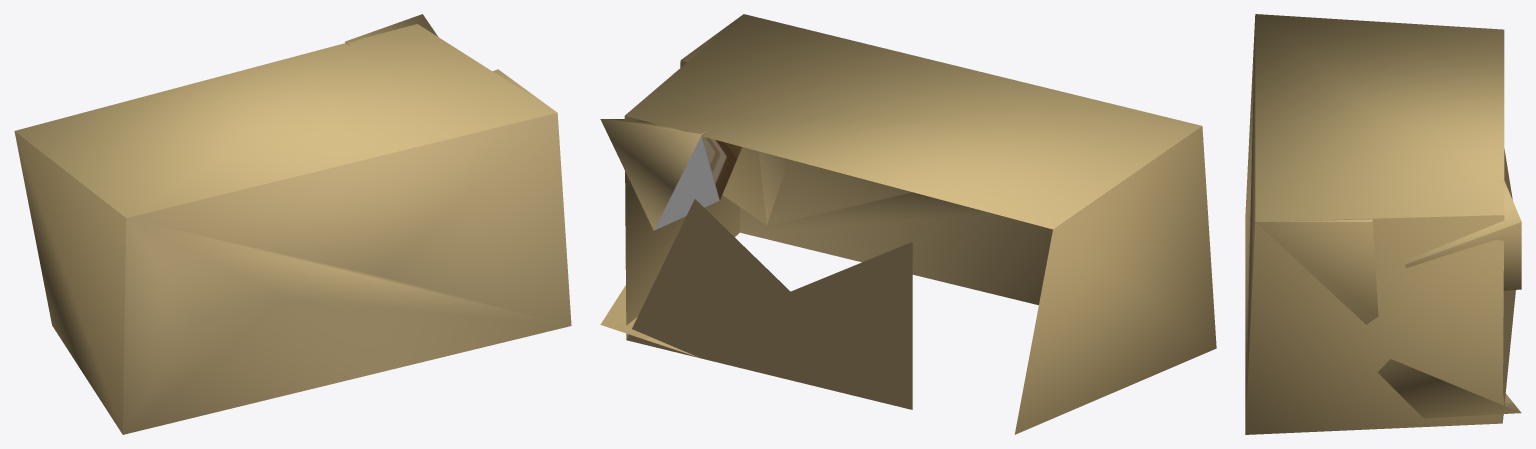
Rendered from DHouse.fbx.
The picture shows the model from 3 angles, left to right: view 1: azimuth 30°, elevation 25°; view 2: azimuth 150°, elevation 25°; view 3: azimuth 270°, elevation 25°; orthographic projection. The views are drawn at different scales.
Visible parts, largest first — view 1: MHouse2_cell.005, MHouse2_cell.011; view 2: MHouse2_cell.005, MHouse2_cell.011, MHouse2_cell.002, MHouse2_cell; view 3: MHouse2_cell.005, MHouse2_cell.002, MHouse2_cell, MHouse2_cell.011.
Boxes of the visible parts, <box> form: MHouse2_cell.005: <box>14,24,571,434</box>; MHouse2_cell.011: <box>345,14,437,46</box>; MHouse2_cell.005: <box>624,14,1216,434</box>; MHouse2_cell.011: <box>600,119,742,230</box>; MHouse2_cell.002: <box>680,15,788,225</box>; MHouse2_cell: <box>600,285,698,357</box>; MHouse2_cell.005: <box>1245,14,1515,434</box>; MHouse2_cell.002: <box>1256,219,1378,324</box>; MHouse2_cell: <box>1377,359,1521,418</box>; MHouse2_cell.011: <box>1405,180,1521,290</box>.
Bounding box in the file's own units: 2.84 × 1.28 × 1.54.
